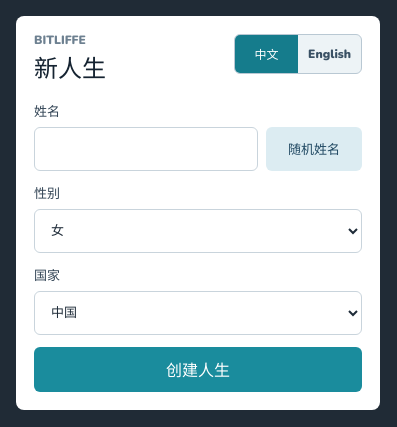
Test: App › can fill a random name before creating a life
Click the button "English".
click(330, 54)  # box left=298, top=35, right=361, bottom=73
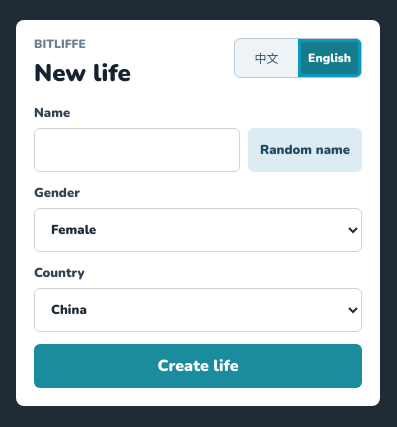
Click the button "Random name".
click(305, 150)  # box left=248, top=128, right=362, bottom=172
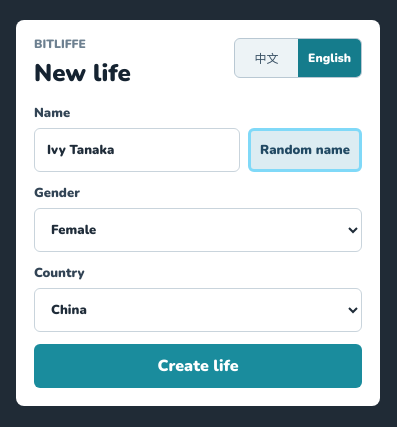
Expected: the field labelled "Name" is not empty, left=34, top=128, right=240, bottom=172
